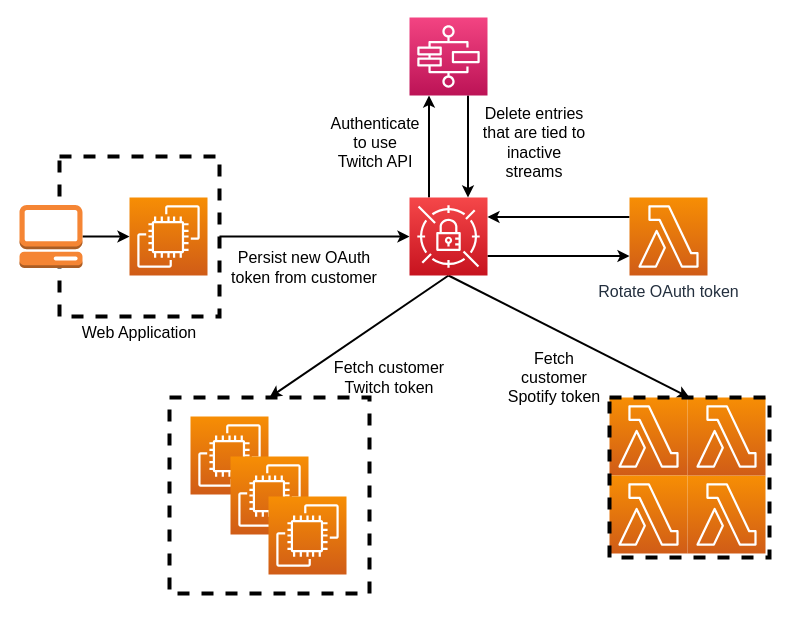
This 788x637 diagram has some shape labels left out. Here are the shapes that lost their labels. From the top down, the box of each, then its label:
(167, 395, 371, 595): Event Interceptor
(607, 395, 771, 559): Spotify queue lambda
